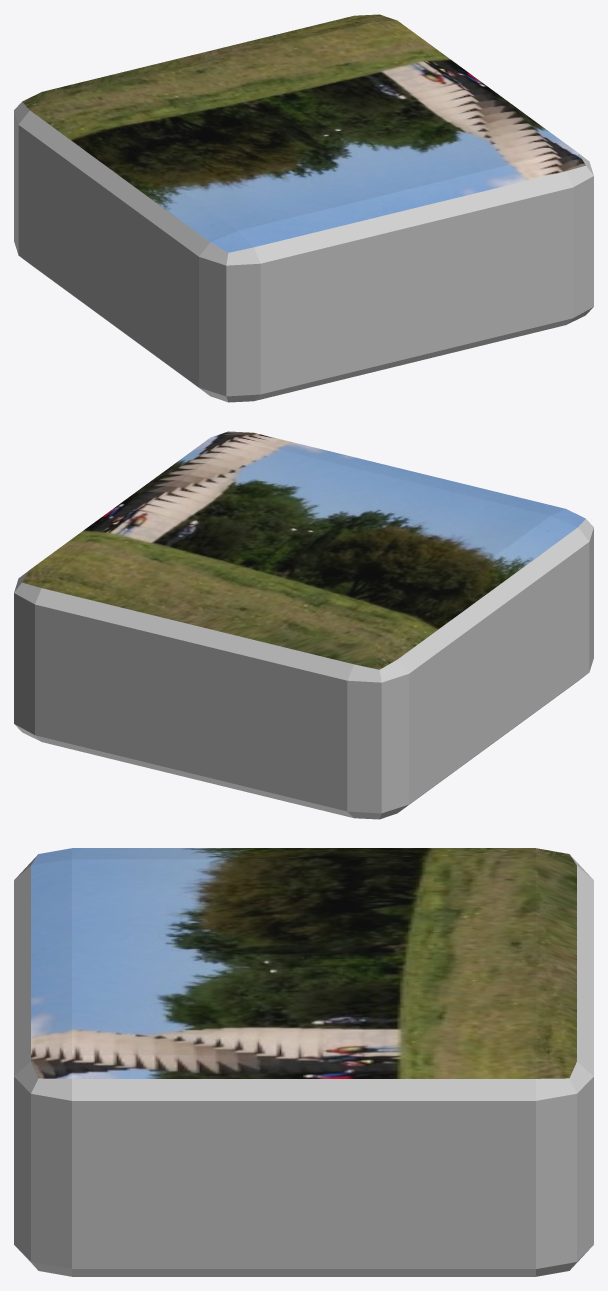
The model's file is peça12.obj.
3 renders of one model, top to bottom at view 1: azimuth 30°, elevation 25°; view 2: azimuth 150°, elevation 25°; view 3: azimuth 270°, elevation 25°, orthographic. The views are drawn at different scales.
Parts seen in each view (by area): view 1: Cubo.006; view 2: Cubo.006; view 3: Cubo.006.
Boxes of the visible parts, x1,y1,x2,y2 form: Cubo.006: (14, 14, 593, 402); Cubo.006: (14, 431, 593, 819); Cubo.006: (14, 848, 593, 1276).
Bounding box in the file's own units: 0.5 × 0.2 × 0.5.
